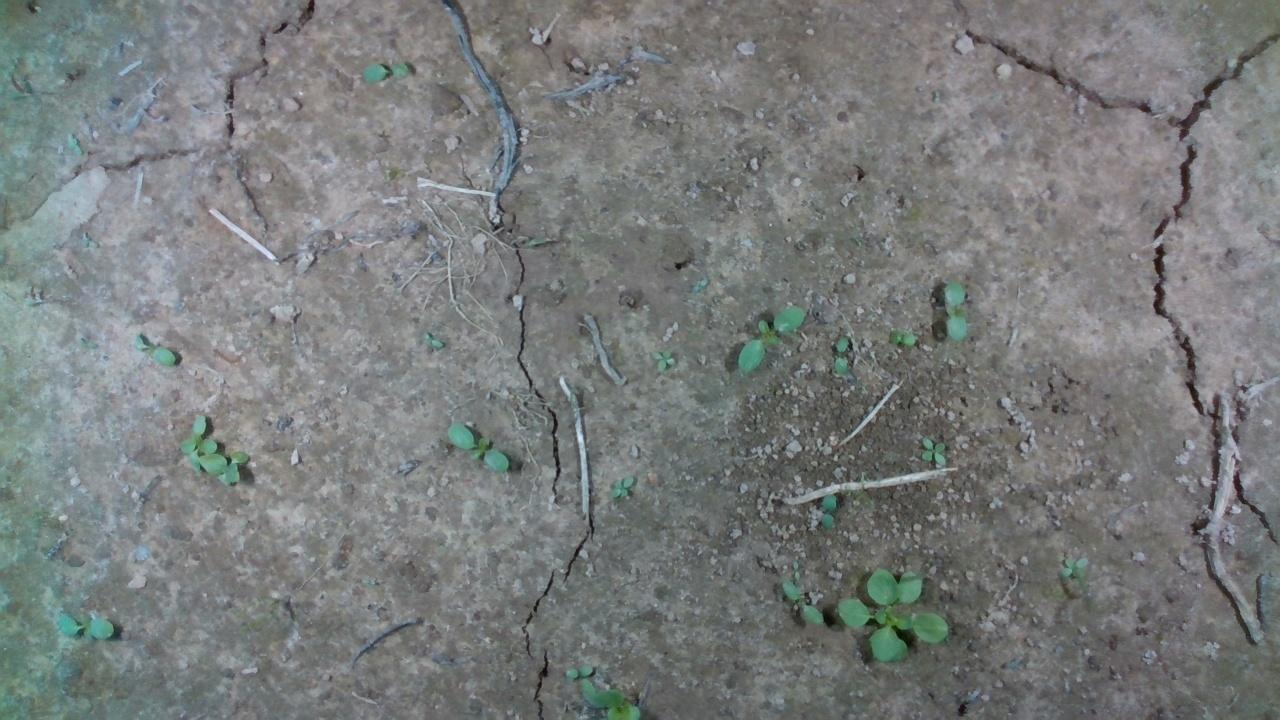weed: (735, 304, 805, 375), (443, 418, 514, 475), (54, 602, 119, 645), (779, 580, 824, 625), (129, 331, 184, 367), (941, 280, 969, 341), (917, 431, 949, 478), (357, 59, 411, 84), (831, 337, 858, 381), (643, 346, 680, 378), (890, 323, 933, 349), (1057, 549, 1088, 583), (607, 475, 631, 504), (420, 327, 438, 345)
